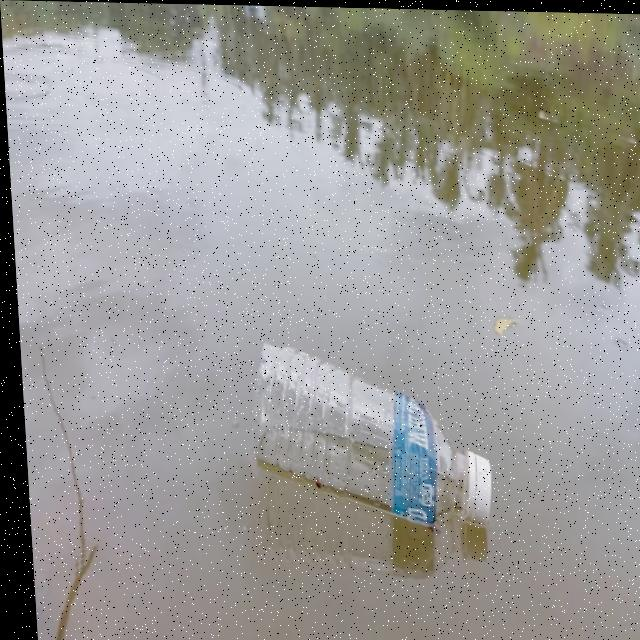waterbottle: (224, 327, 513, 531)
